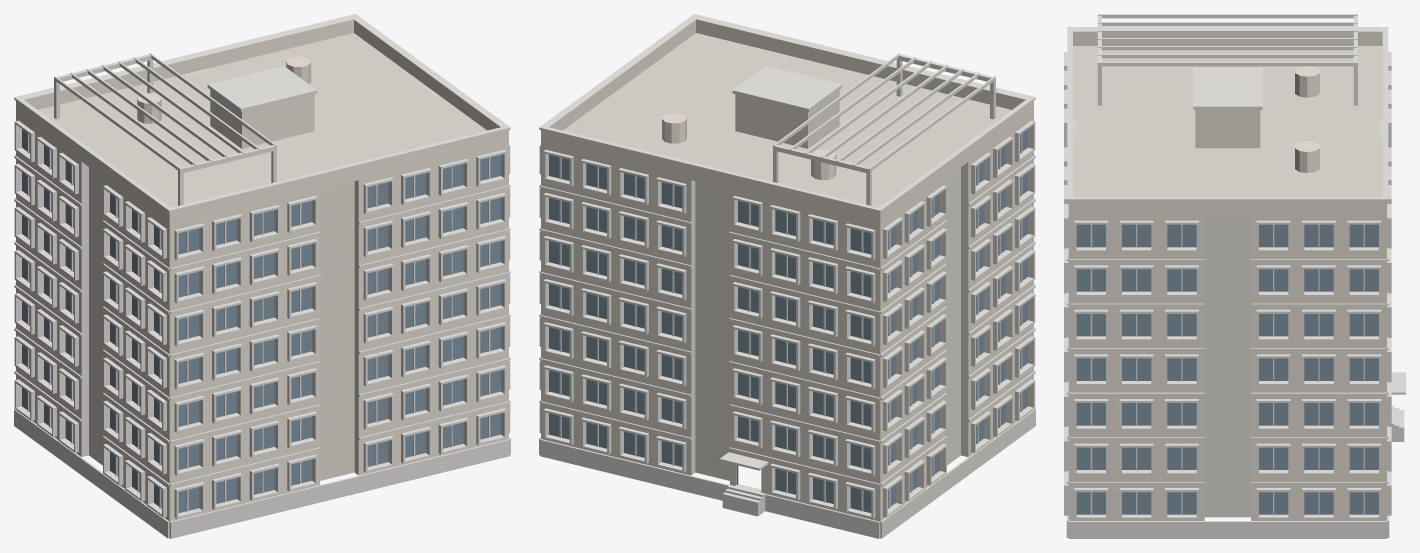
The model's file is Hostel_Chain_3.fbx.
The picture shows the model from 3 angles, left to right: view 1: azimuth 30°, elevation 25°; view 2: azimuth 150°, elevation 25°; view 3: azimuth 270°, elevation 25°; orthographic projection. The views are drawn at different scales.
Visible parts, largest first — view 1: Hostel_Chain_3; view 2: Hostel_Chain_3; view 3: Hostel_Chain_3.
Boxes of the visible parts, left/top/right/bottom form: Hostel_Chain_3: left=14, top=14, right=510, bottom=538; Hostel_Chain_3: left=539, top=14, right=1035, bottom=538; Hostel_Chain_3: left=1064, top=14, right=1405, bottom=538.
Bounding box in the file's own units: 28.64 × 27.85 × 23.62.
